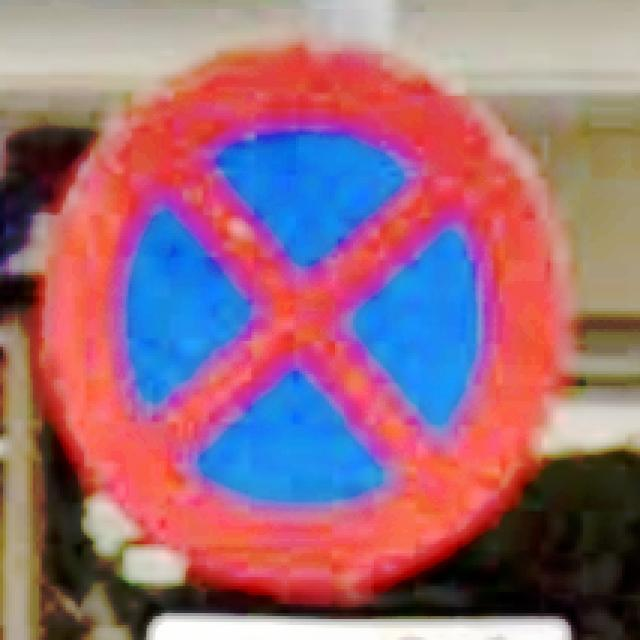nopark: (42, 45, 568, 592)
